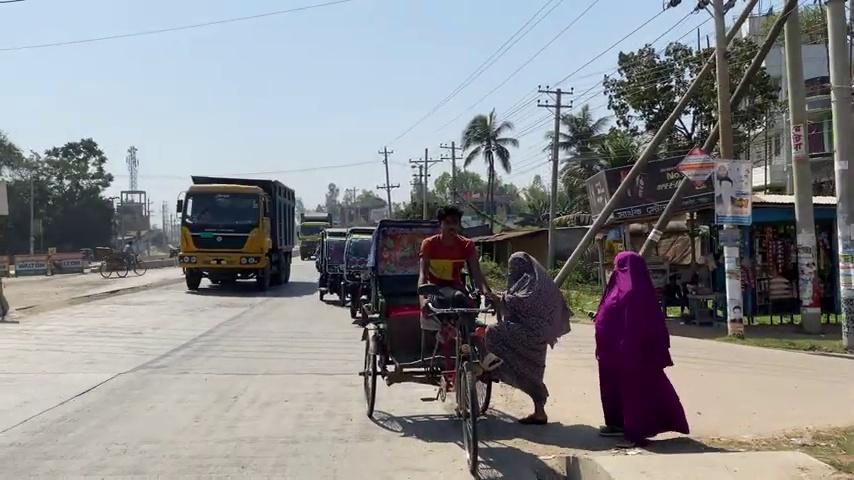Construction-barrier: (591, 249, 689, 447)
Fence: (474, 250, 573, 424), (416, 205, 500, 390)
Garbage: (781, 0, 822, 326), (710, 0, 745, 336), (823, 0, 853, 347)
Railroad-crossing: (543, 103, 611, 214), (460, 107, 518, 232)
Rickshaw: (175, 174, 296, 291)
